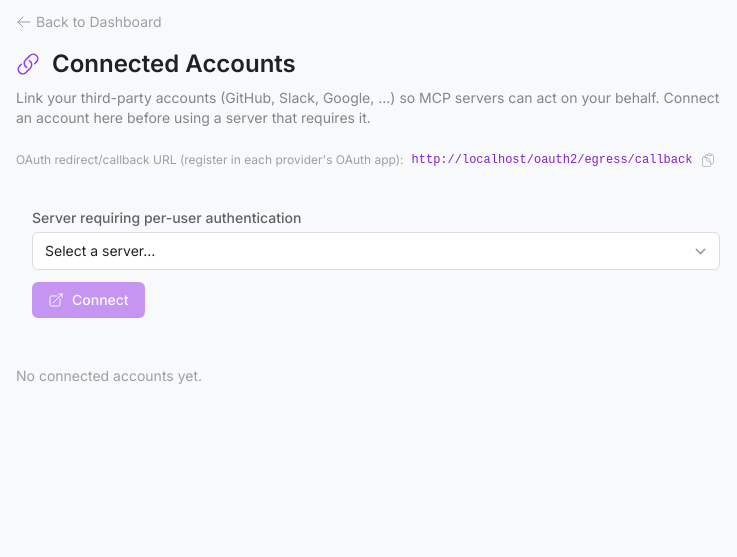
Test: ConnectedAccountsPage › submits a PAT via setEgressPat and refreshes
Check: the text "No connected accounts yet." is shown, box [16, 367, 202, 384]
Select "GitHub MCP (github) — /github-mcp" in the dropdown labelled "Server requiring per-user authentication" at (376,251), box [32, 232, 720, 270]
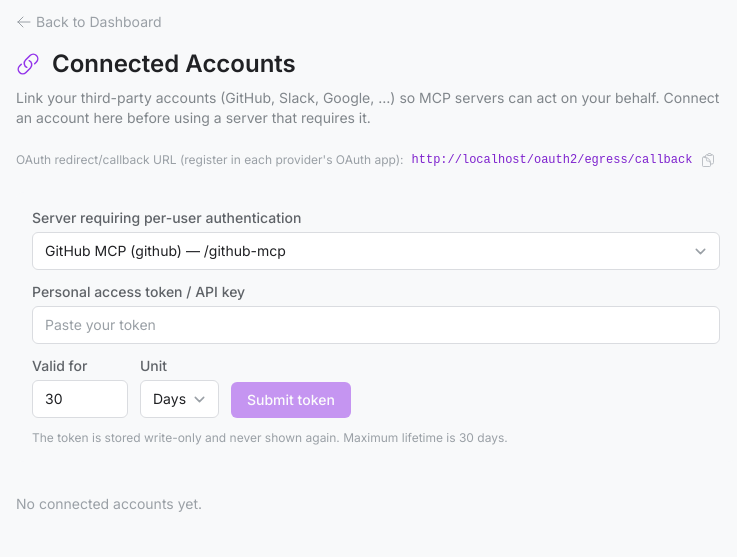
Type "ghp_secret" into the password field labelled "Personal access token / API key".
click(376, 325); type("ghp_secret")  # box [32, 306, 720, 344]
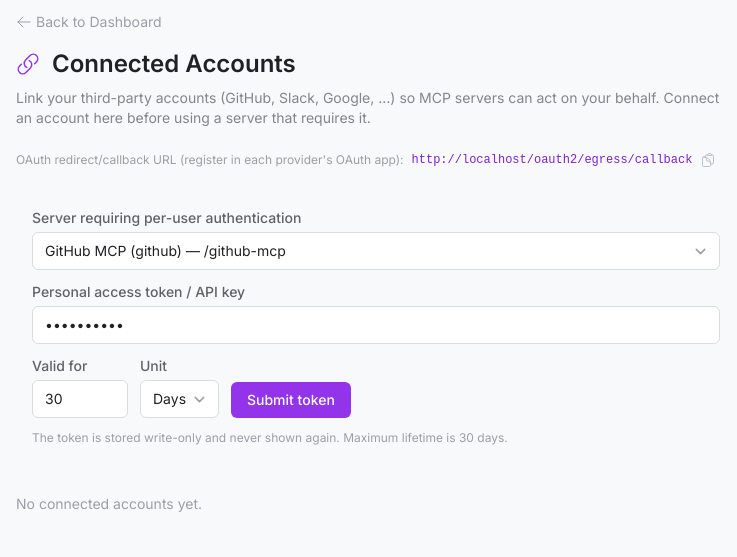
Click the button "Submit token".
click(291, 400)  # box [231, 382, 351, 418]
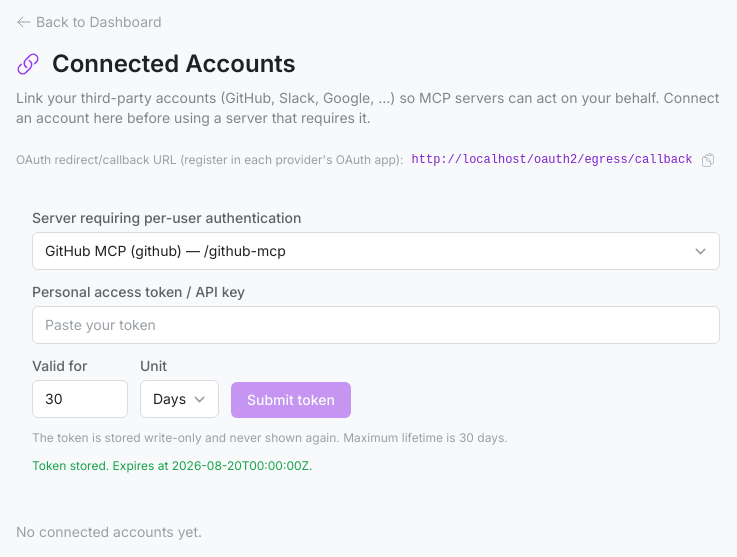
Check: the text "Token stored. Expires at 2026-08-20T00:00:00Z." is shown, box [32, 458, 312, 473]
Check: the password field labelled "Personal access token / API key" is empty, box [32, 306, 720, 344]
